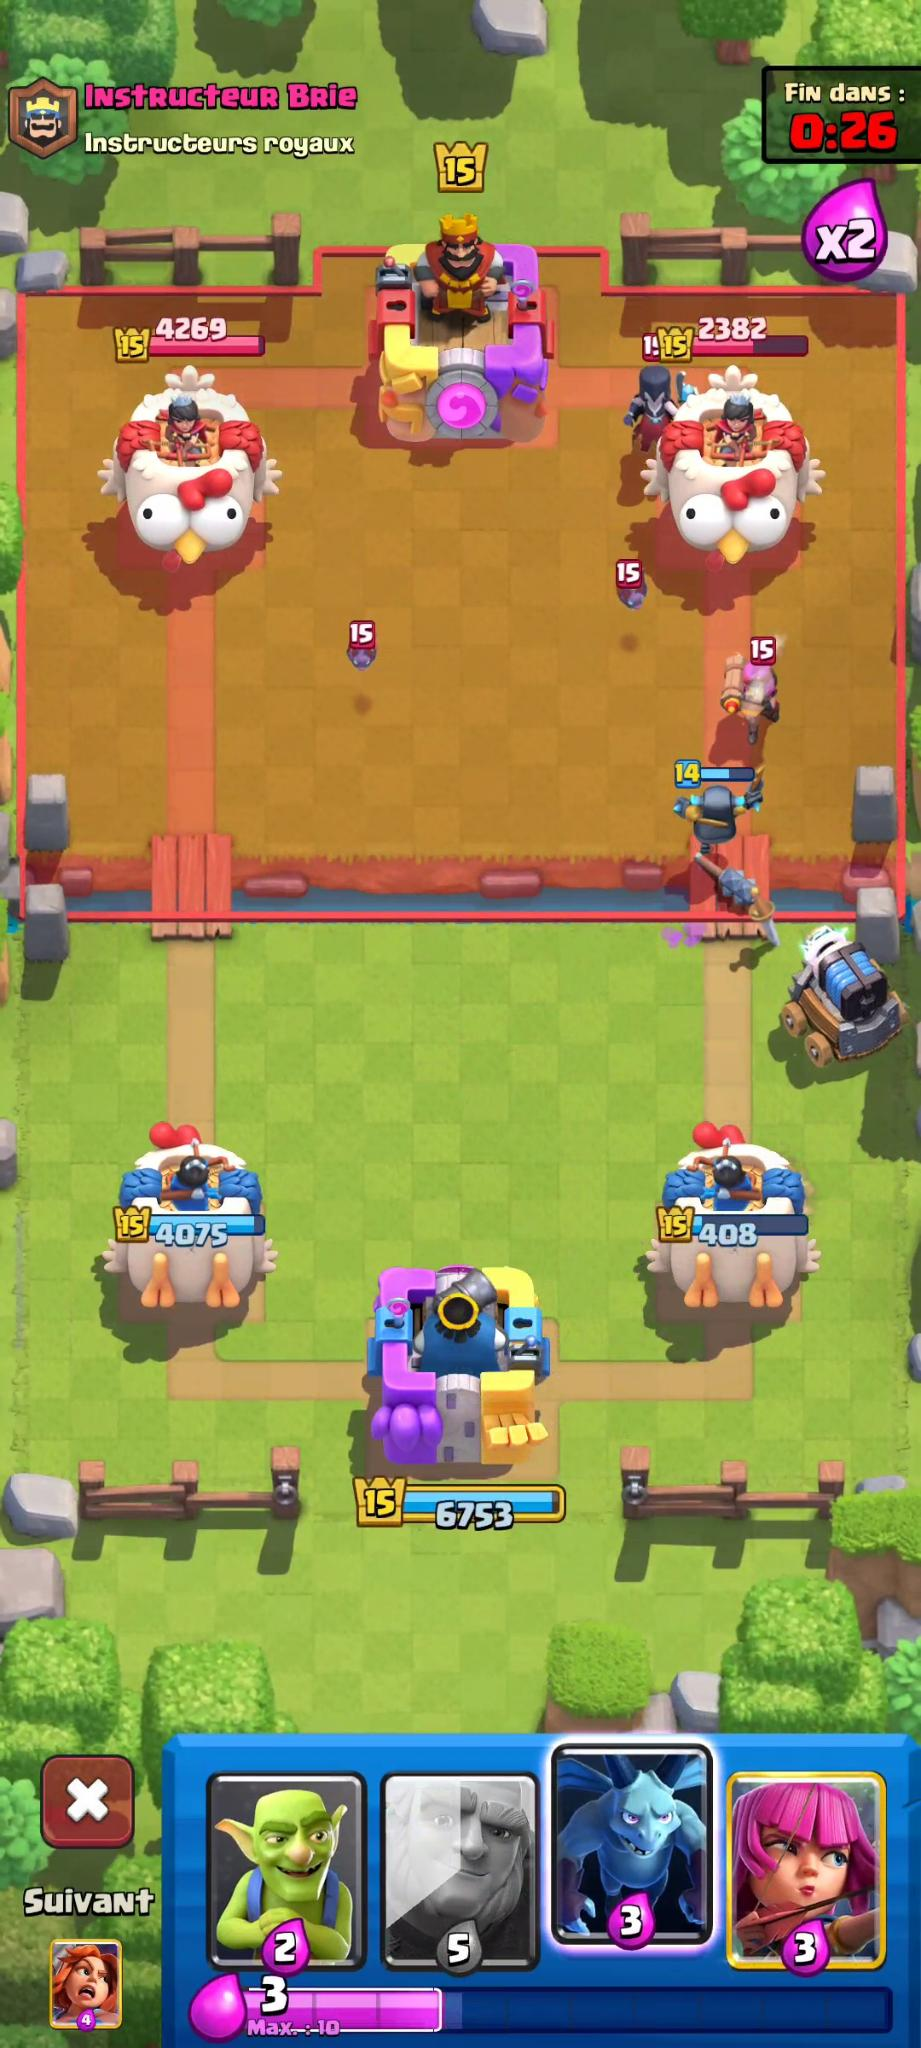bat: (337, 616, 395, 678), (602, 558, 649, 624)
mini_PEKKA: (665, 759, 766, 861)
zappy: (764, 917, 917, 1079)
